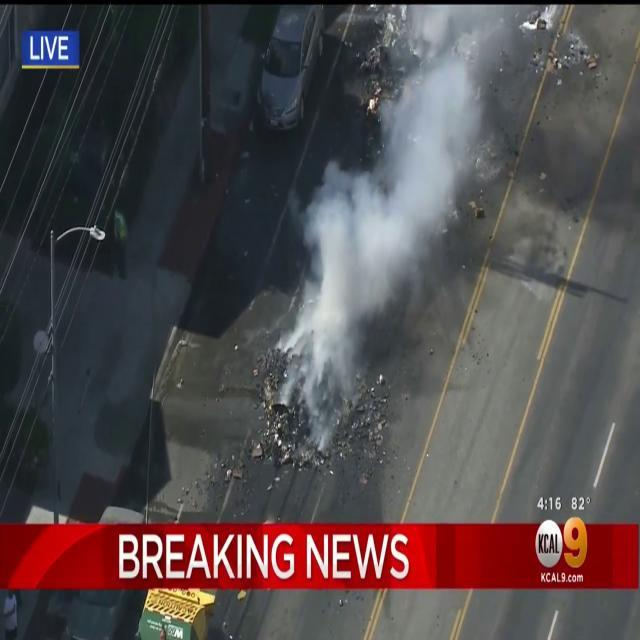Smoke: (282, 6, 488, 422)
